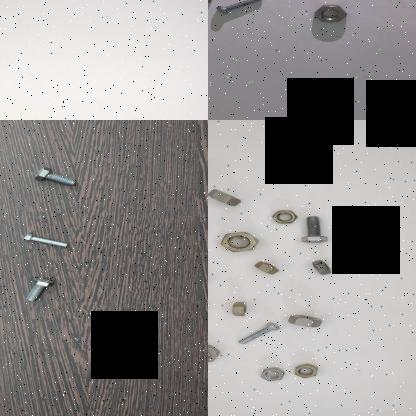Bolts: (31, 164, 82, 190), (234, 320, 280, 348), (20, 228, 72, 252), (19, 276, 62, 304), (298, 211, 328, 245), (212, 0, 270, 14)
NUTS: (306, 0, 350, 24), (219, 230, 261, 252), (208, 185, 245, 205), (286, 311, 320, 329), (308, 258, 336, 276), (270, 208, 300, 224), (292, 362, 322, 378), (260, 366, 286, 382), (252, 259, 281, 273), (208, 343, 224, 365), (230, 299, 250, 316)
